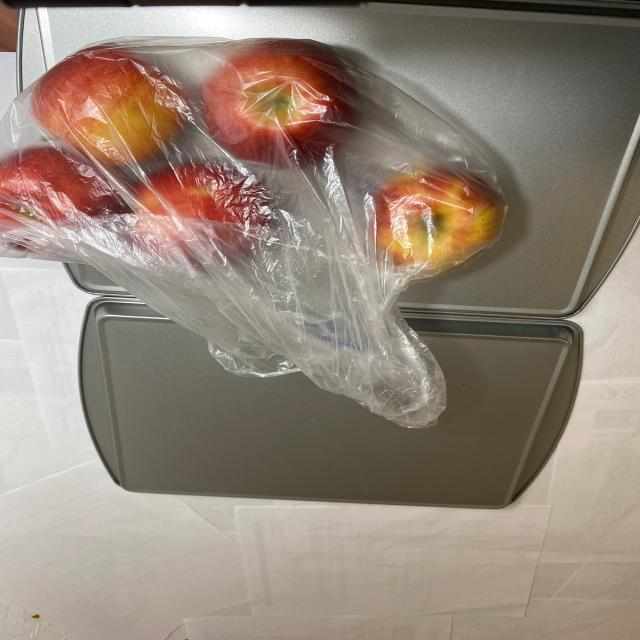apple: (0, 34, 513, 324)
